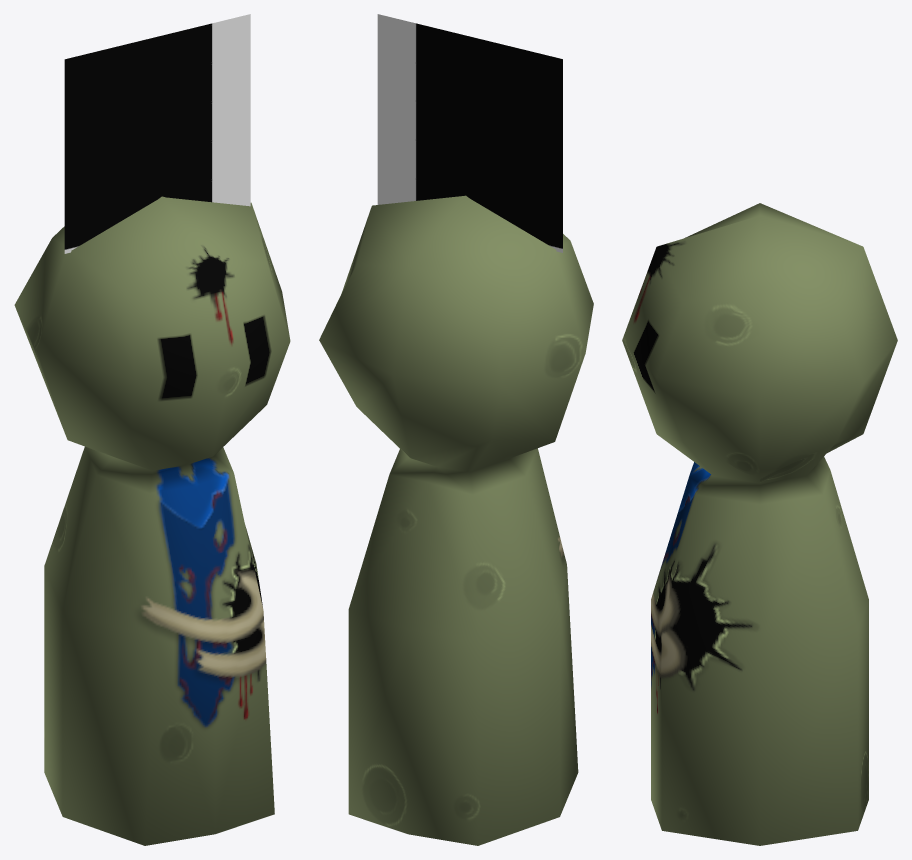
Rendered from Zunby.fbx.
The picture shows the model from 3 angles, left to right: view 1: azimuth 30°, elevation 25°; view 2: azimuth 150°, elevation 25°; view 3: azimuth 270°, elevation 25°; orthographic projection. The views are drawn at different scales.
Parts seen in each view (by area): view 1: Zunby; view 2: Zunby; view 3: Zunby.
Part boxes in pixels (x1,y1,x2,y2): Zunby: (14, 14, 290, 845); Zunby: (319, 14, 593, 845); Zunby: (622, 203, 897, 845).
Size of the model in its own units: 3.52 by 10.42 by 3.52.
